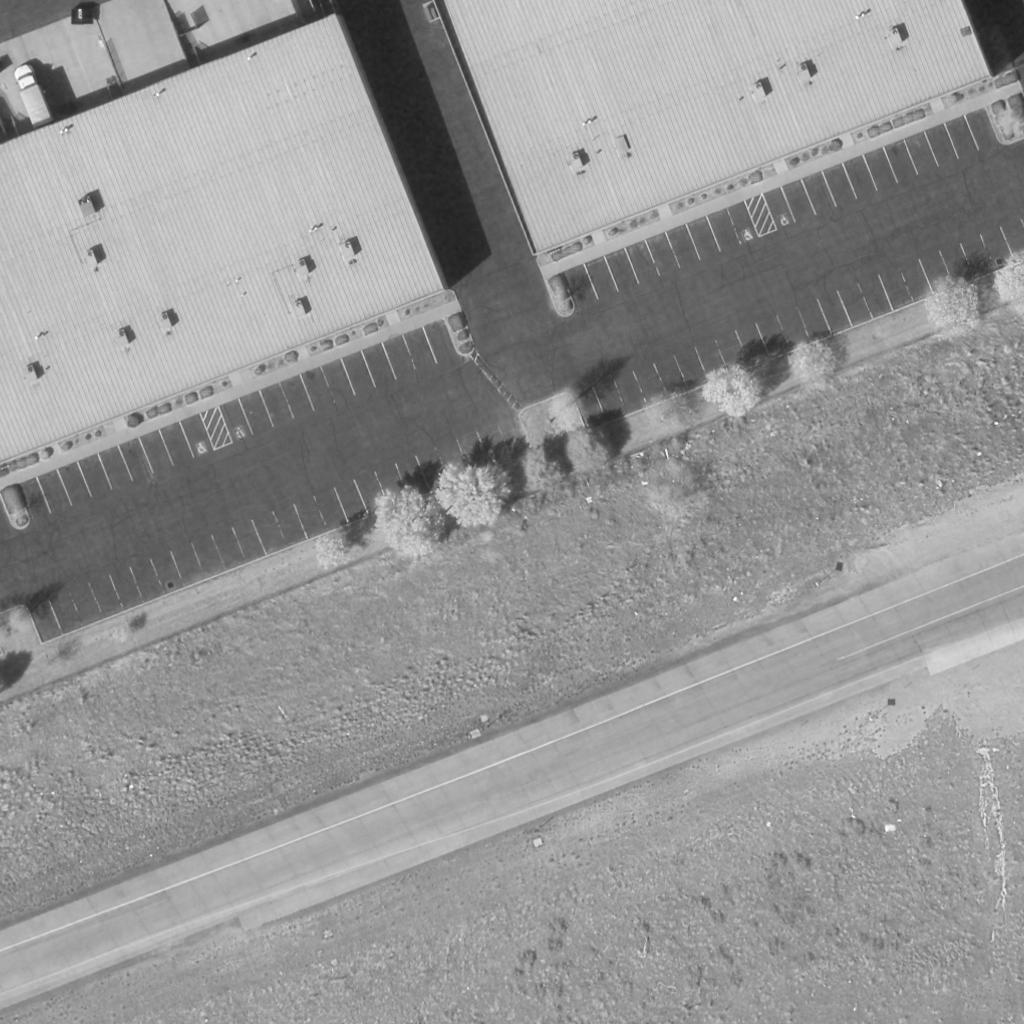vehicle: (10, 64, 56, 130)
